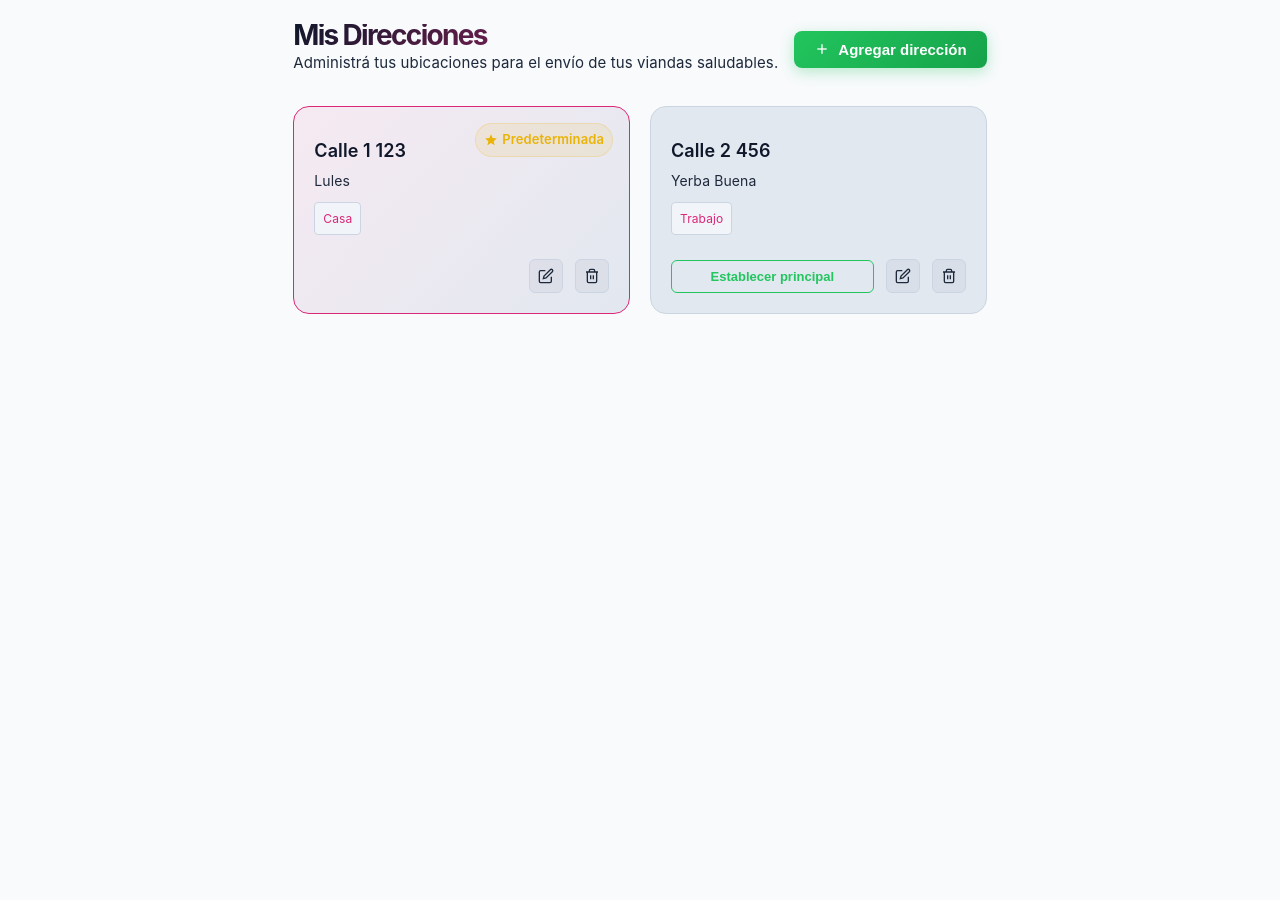
Test: AddressManager › should handle delete address action
Expected: the text "Calle 2 456" is shown, left=671, top=140, right=771, bottom=161
Step 1. Click the button named "eliminar dirección" below "Trabajo" → click(949, 276), box left=932, top=259, right=966, bottom=293
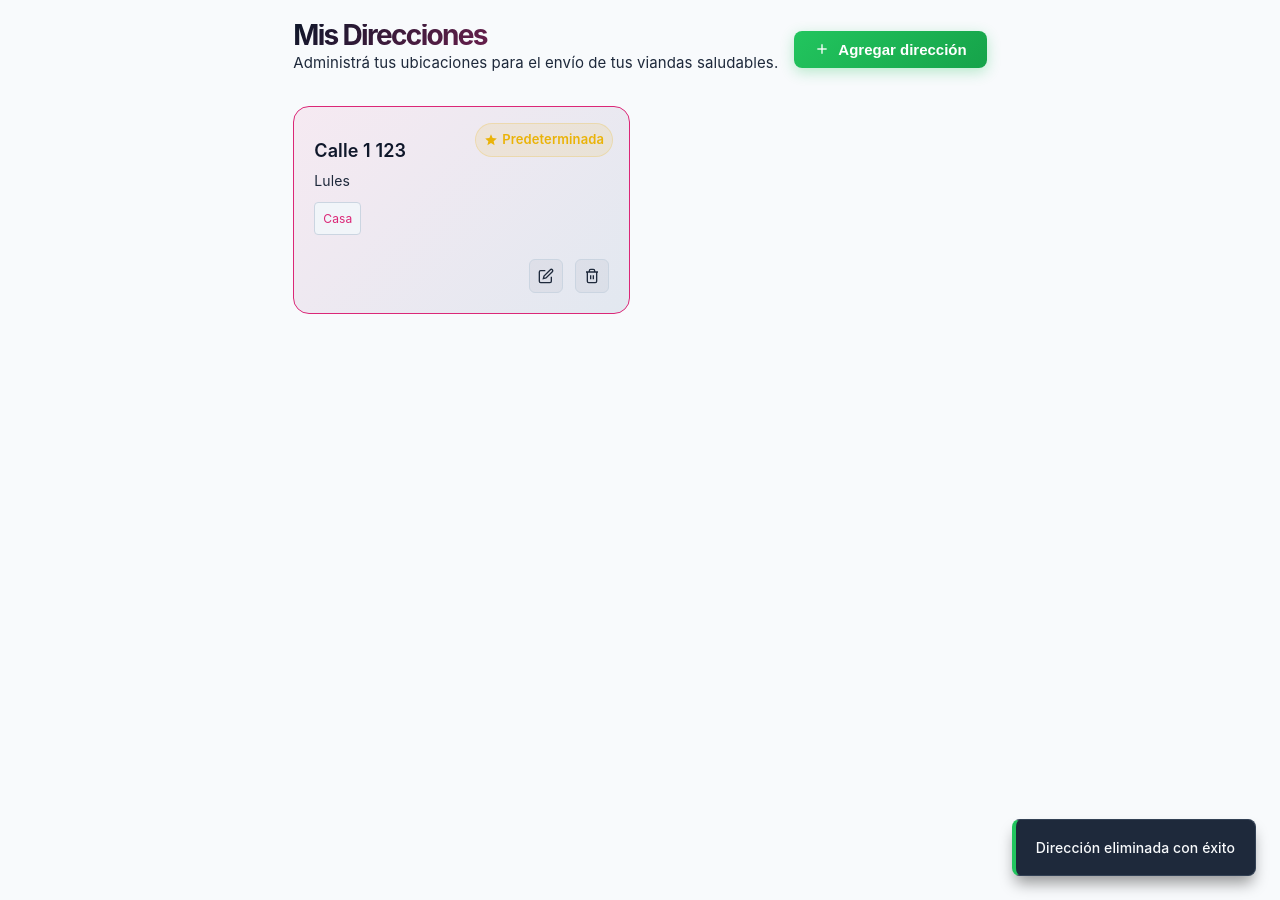
Now the text "Dirección eliminada con éxito" is shown, box left=1012, top=819, right=1256, bottom=876
